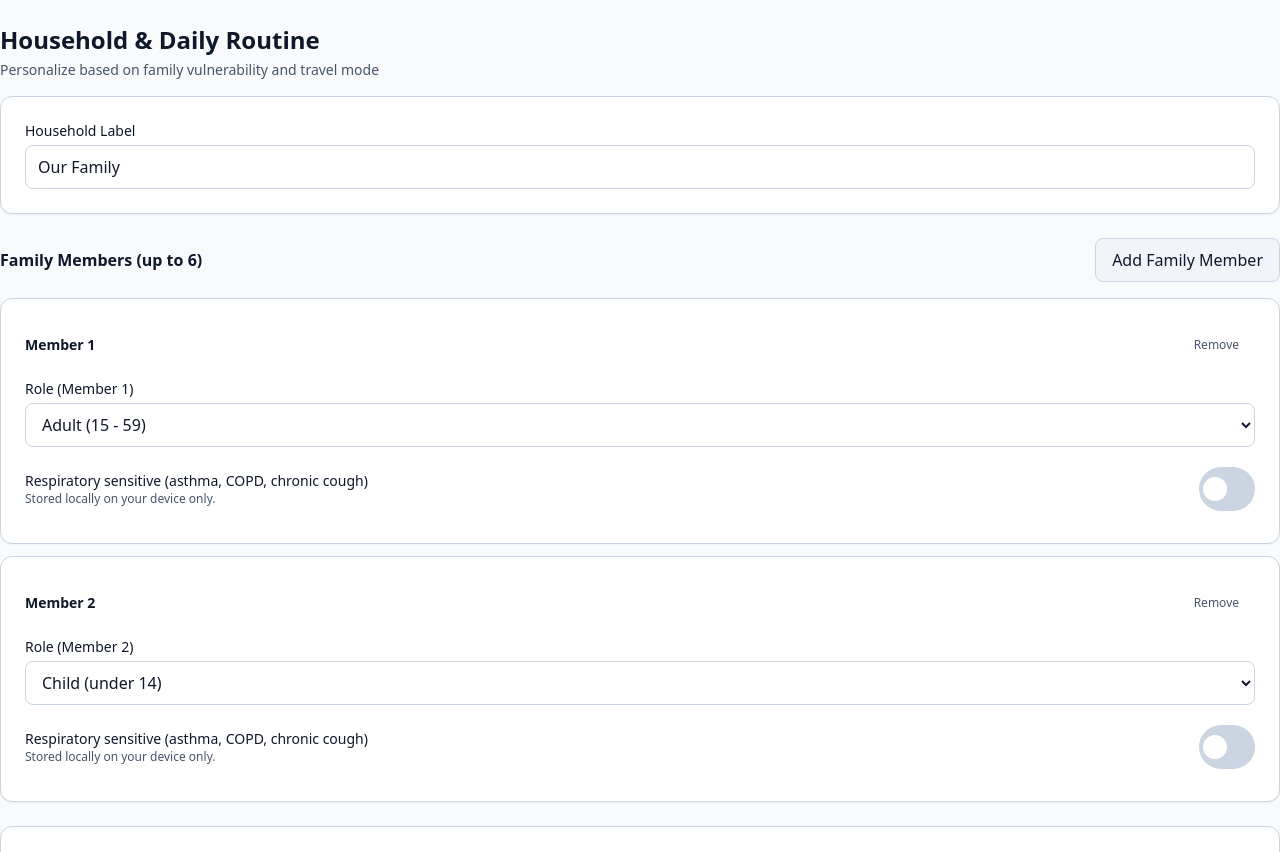
Scenario: Household Feature › removes member, updates commute mode and saves profile
The width and height of the screenshot is (1280, 852).
Click the button with aria-label "remove member 2". click: (1216, 603)
box: [1178, 581, 1255, 625]
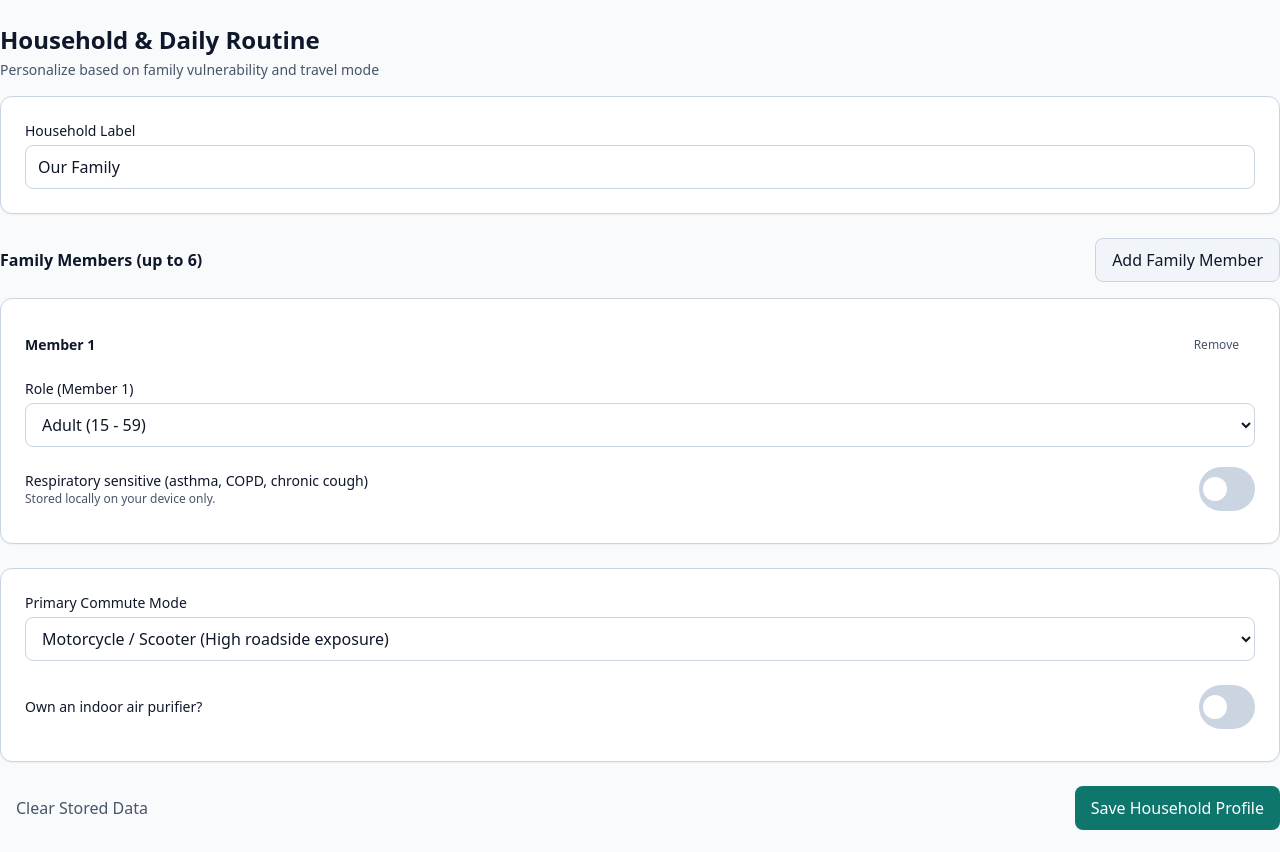
Check: the text "Member 2" is gone
Select "Metro / Bus (Intermediate)" in the dropdown labelled "Primary Commute Mode". click: (640, 639)
box: [25, 617, 1255, 661]
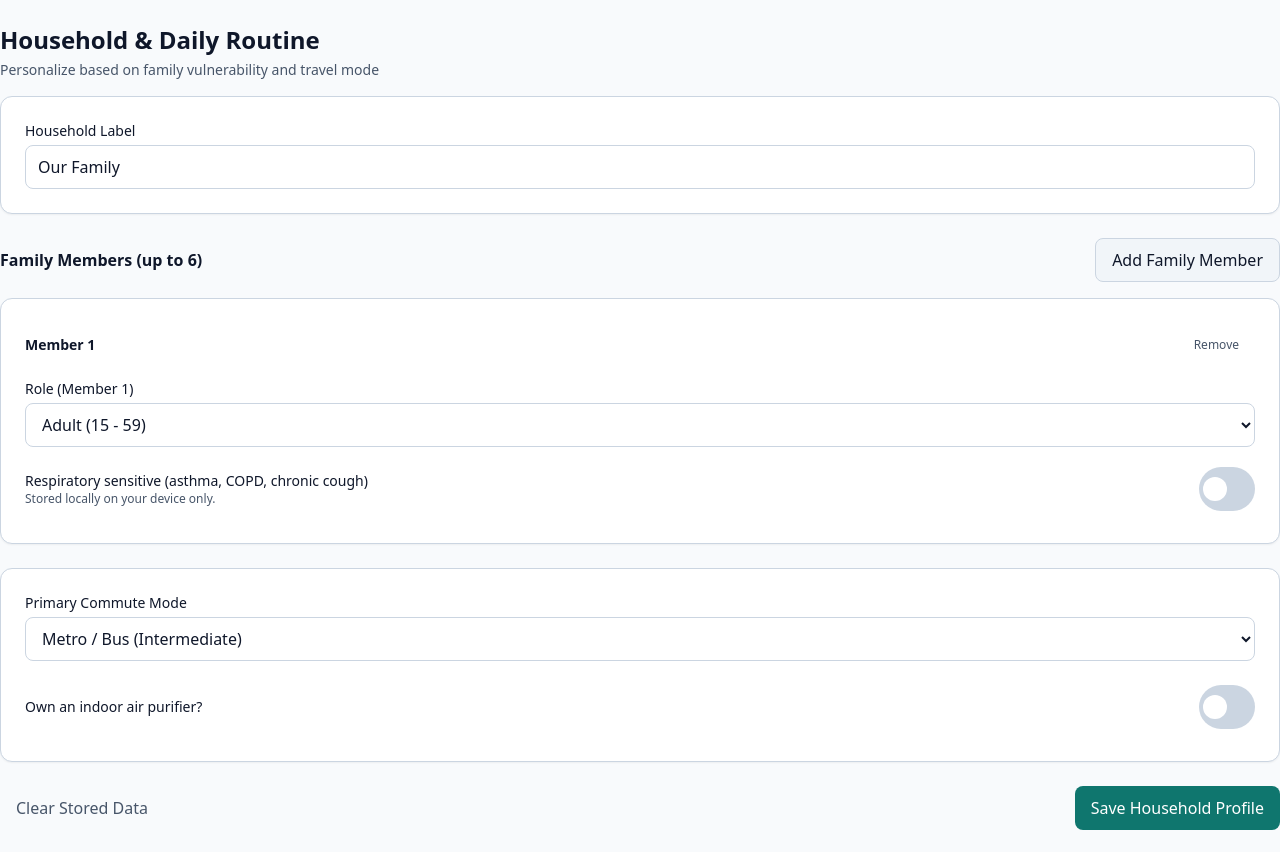
Click the switch named "own an indoor air purifier" in the row of "Own an indoor air purifier?". click: (1227, 707)
box: [1199, 685, 1255, 729]
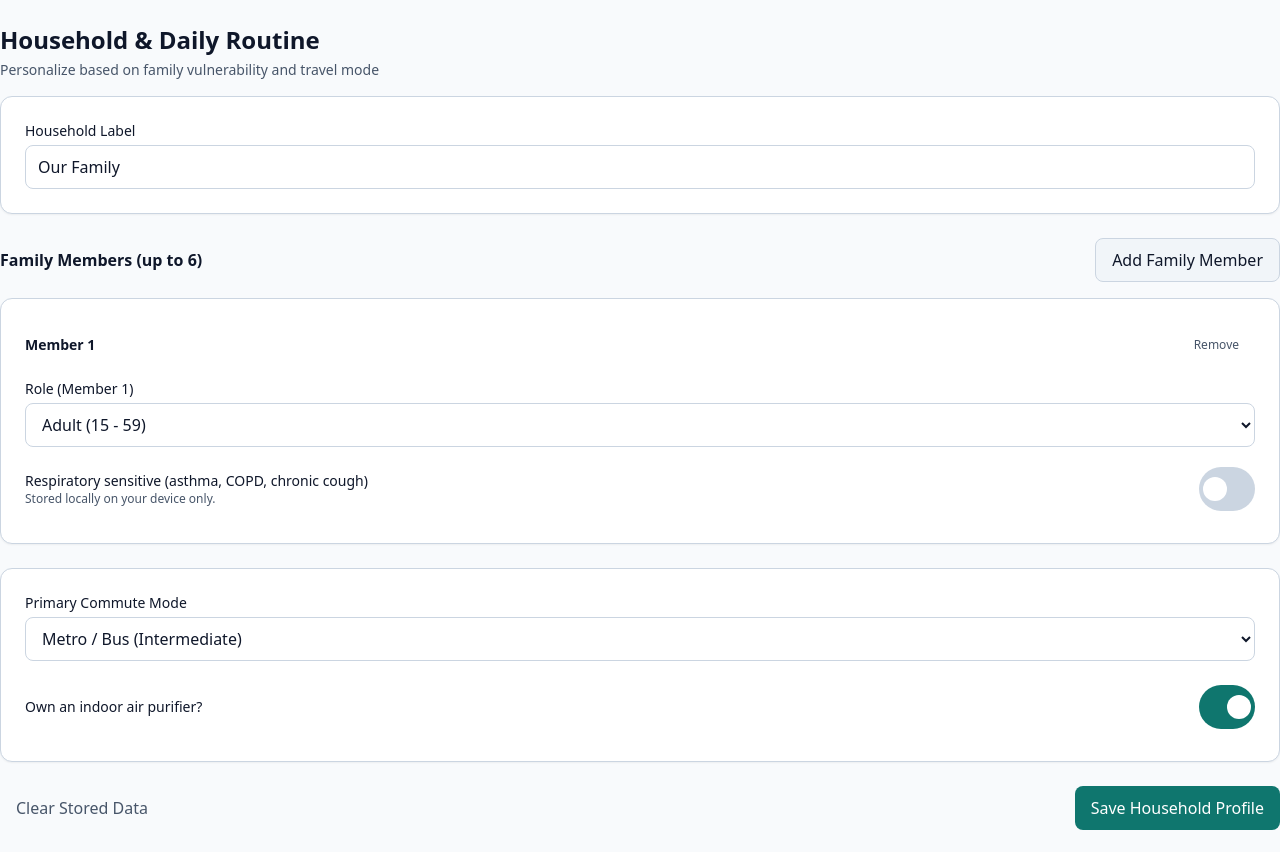
Click the button "Save Household Profile". click: (1177, 808)
box: [1075, 786, 1279, 830]
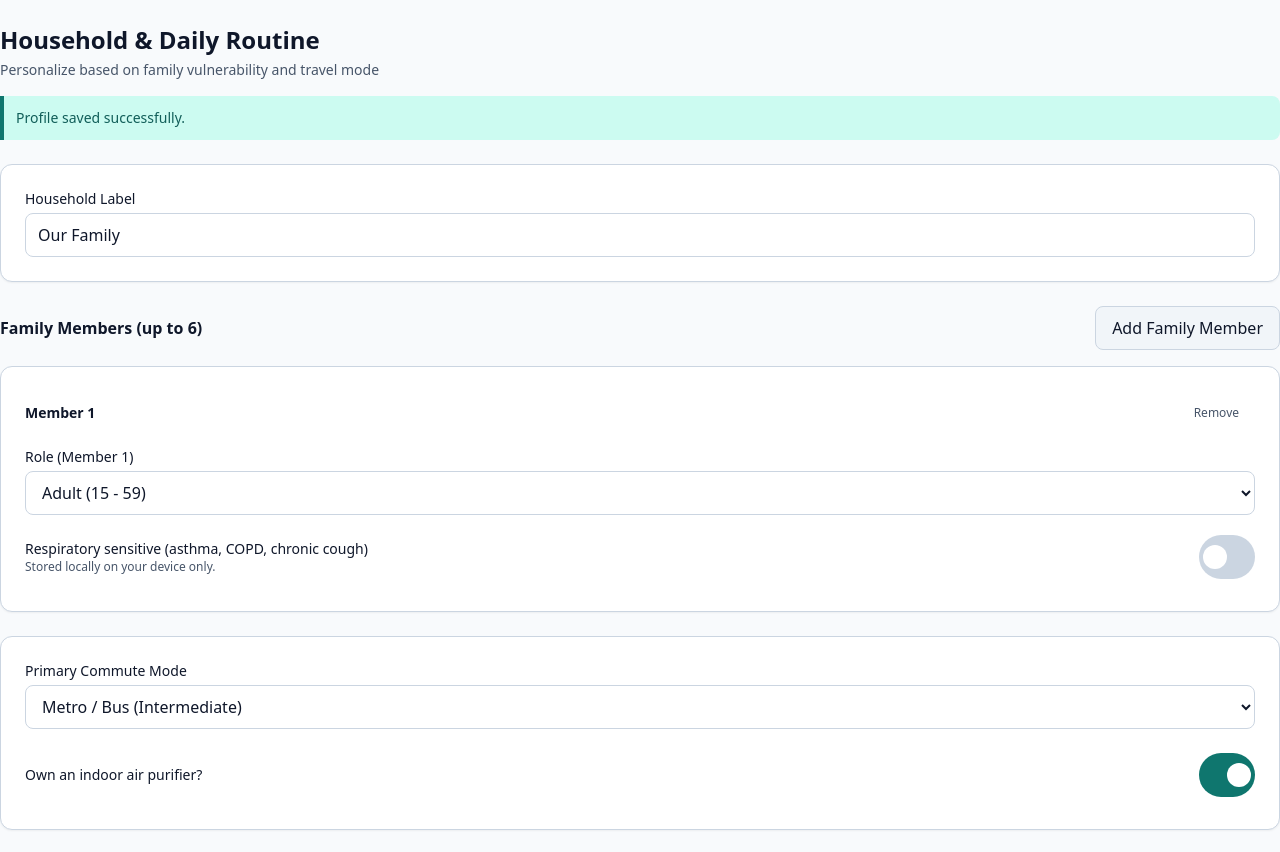
Check: the text "Profile saved successfully." is shown, box [0, 96, 1279, 140]
